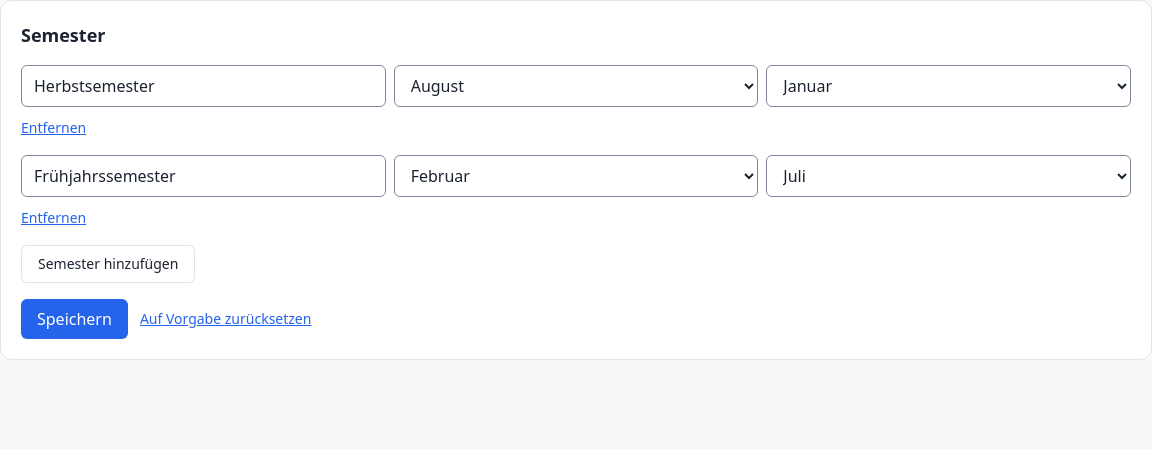
Test: Semester › AK-3: Lücke zeigt Hinweis und speichert
Select "Dezember" in the dropdown named "Ende Semester 1" at (949, 86), box [766,65,1131,107]
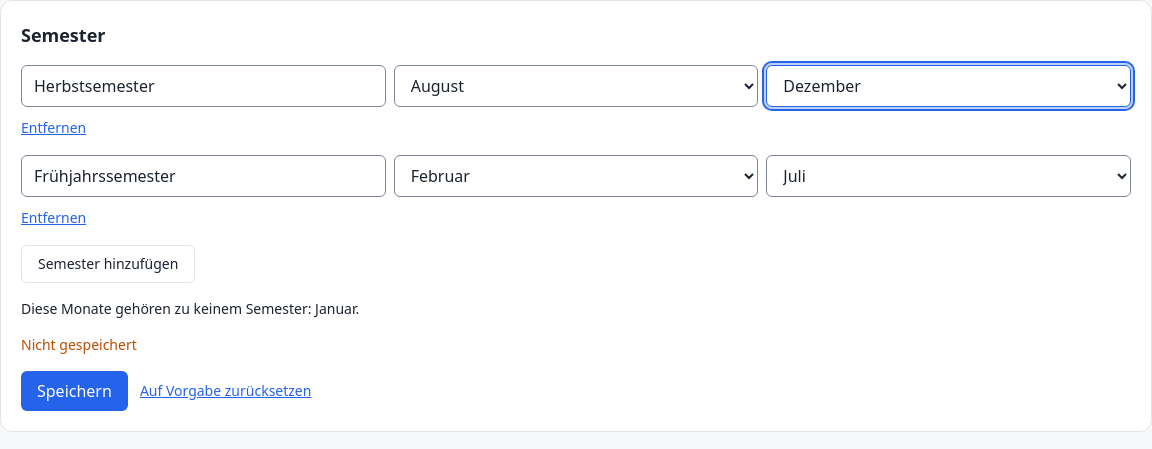
Expected: the text "Diese Monate gehören zu keinem Semester: Januar." is shown, [21,299,359,318]
Click the button "Speichern" at (74, 391), box [21,371,128,411]
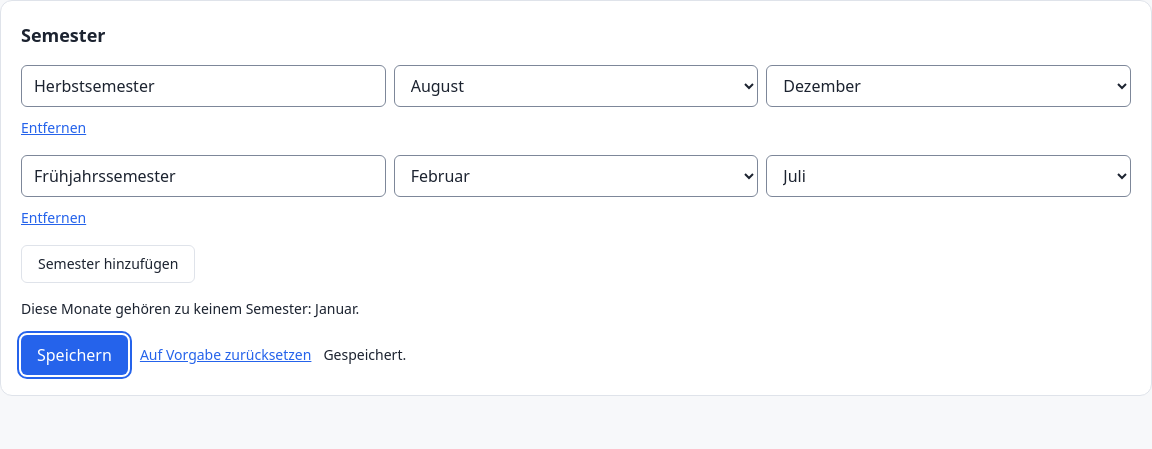
Expected: the message reads "Gespeichert.", [323,345,406,364]
